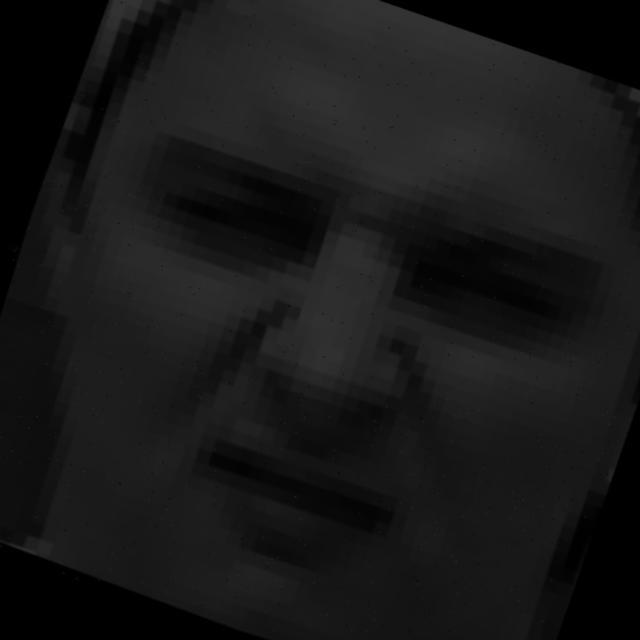Disgust: (77, 79, 640, 611)
